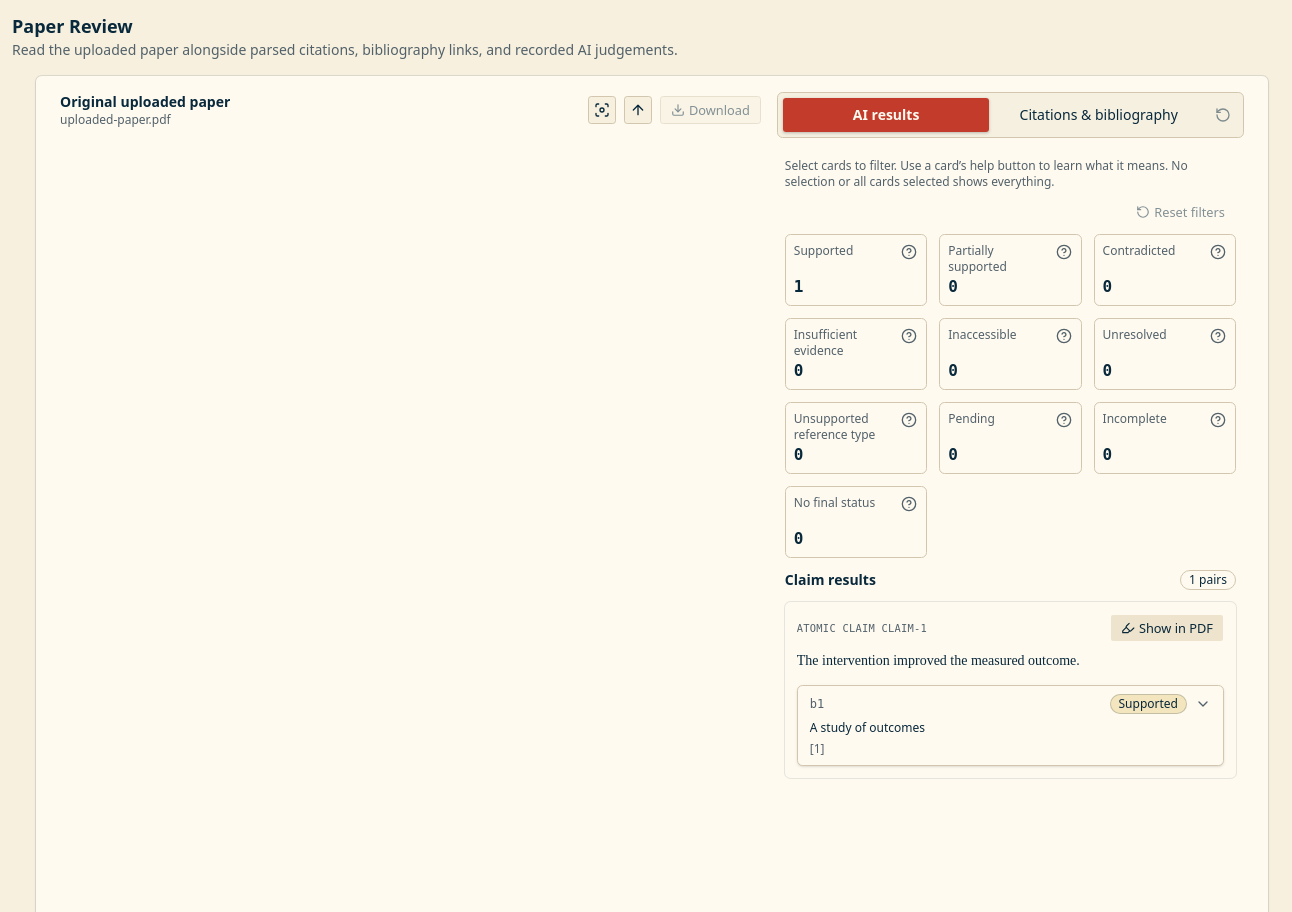
Scenario: Analysis Run Paper Review › finds an AI-result citation in the PDF when extracted text differs from the parsed citation context
This screenshot has width=1292, height=912.
Click the button "Show in PDF".
click(1167, 628)  # box [1110,614,1224,642]
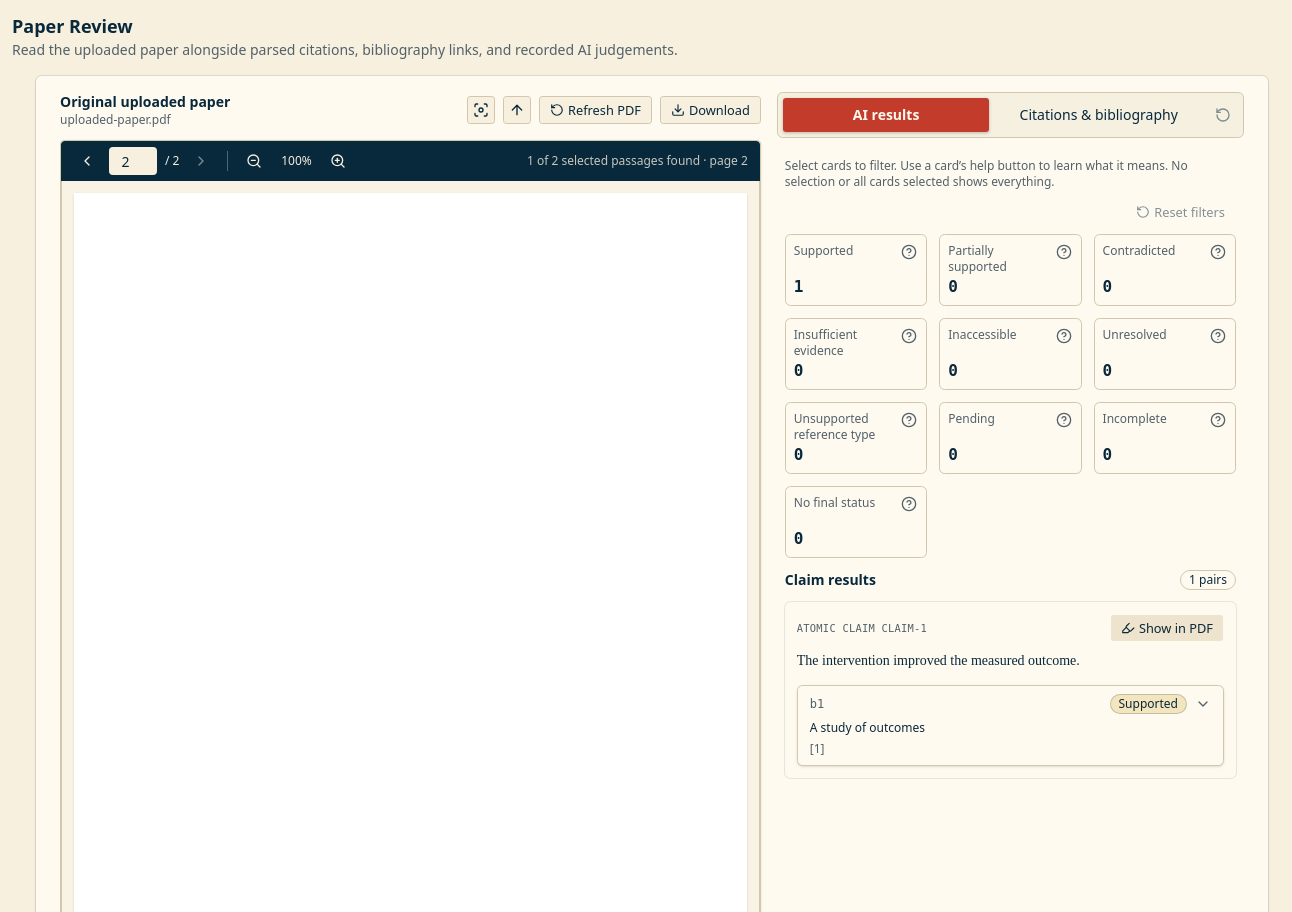
Now the number field named "PDF page number" holds "2", box [109,147,157,175]
Now the text "1 of 2 selected passages found · page 2" is shown, box [527,152,748,169]
